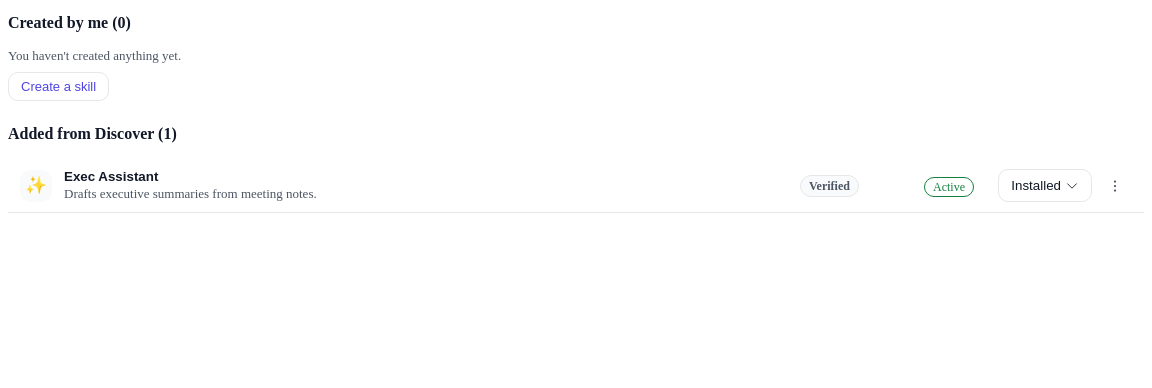
Yours › Delete permanently is not offered, and Retire is offered instead with an explanatory note, when the item has other installs
Click the button with test id "detail-installed-trigger" at (1045,186), box [998,169,1092,202]
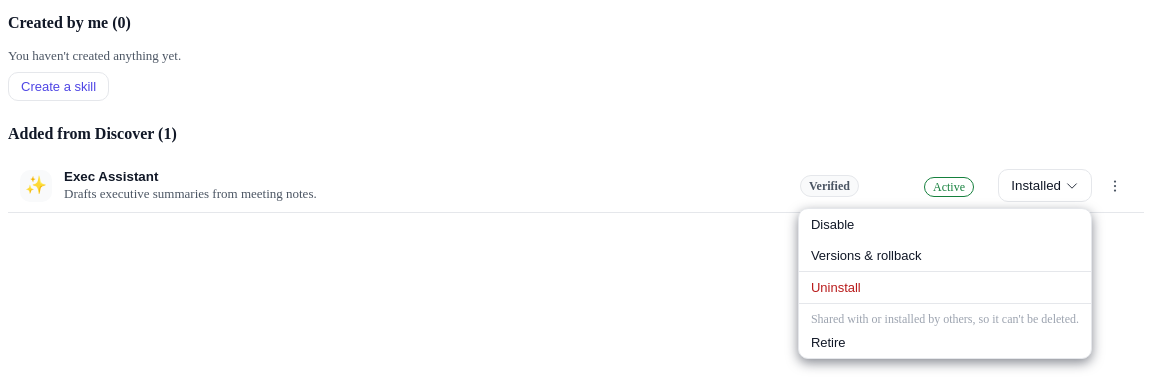
Check: the text "Shared with or installed by others, so it can't be deleted." is shown, box [799,304,1091,327]
Check: the menu item "Retire" is shown, box [799,327,1091,358]
